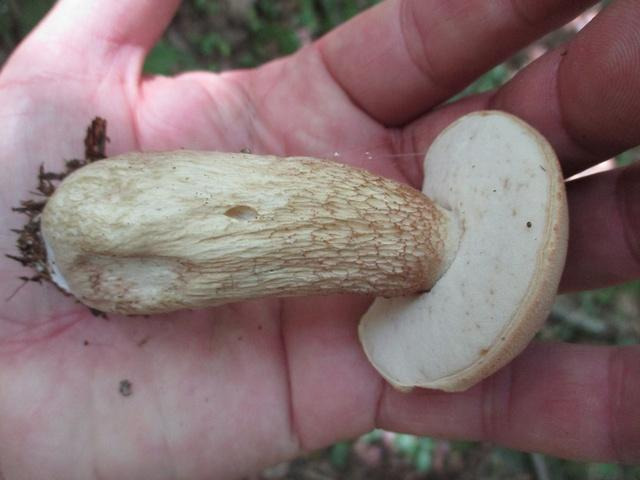poisonous_mushroom: (0, 107, 570, 373)
